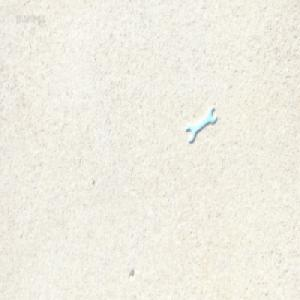Wrench: (185, 106, 216, 142)
